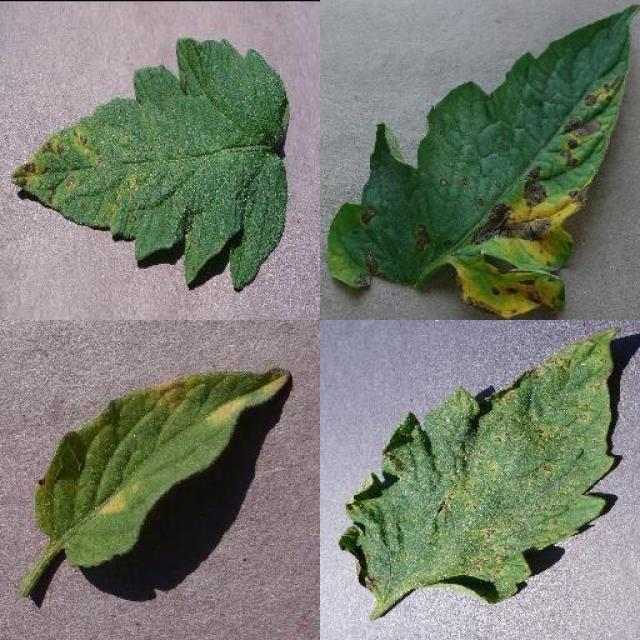Early Blight: (329, 5, 640, 320)
Septoria: (338, 324, 618, 605), (11, 35, 291, 293)
